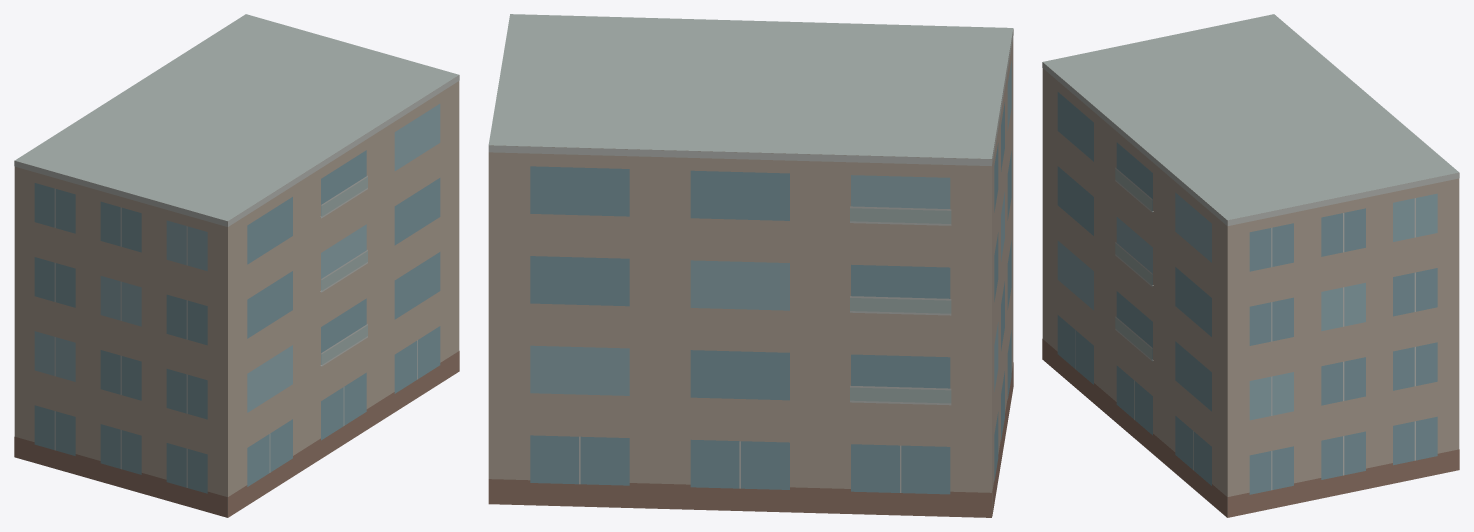
File: survey-upis-32802083.glb
3 views of the same model, side by side, from view 1: azimuth 30°, elevation 25°; view 2: azimuth 150°, elevation 25°; view 3: azimuth 270°, elevation 25° (orthographic). The views are drawn at different scales.
Visible parts, largest first — view 1: survey-upis-32802083.tmp; view 2: survey-upis-32802083.tmp; view 3: survey-upis-32802083.tmp.
Part boxes in pixels (x1,y1,x2,y2): survey-upis-32802083.tmp: (14, 14, 459, 517); survey-upis-32802083.tmp: (488, 14, 1013, 517); survey-upis-32802083.tmp: (1042, 14, 1459, 517).
Size of the model in its own units: 18.46 by 12.4 by 15.76.
